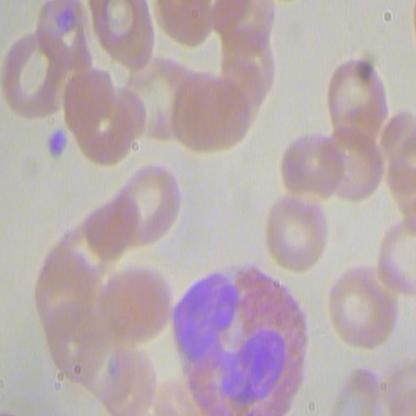Platelets: (43, 125, 72, 163)
RBC: (96, 257, 176, 347), (171, 67, 250, 157), (1, 27, 72, 118), (110, 160, 182, 249), (261, 186, 333, 275), (326, 263, 397, 351), (320, 55, 391, 143), (277, 127, 344, 202), (91, 1, 158, 74)
WBC: (169, 253, 315, 415)
